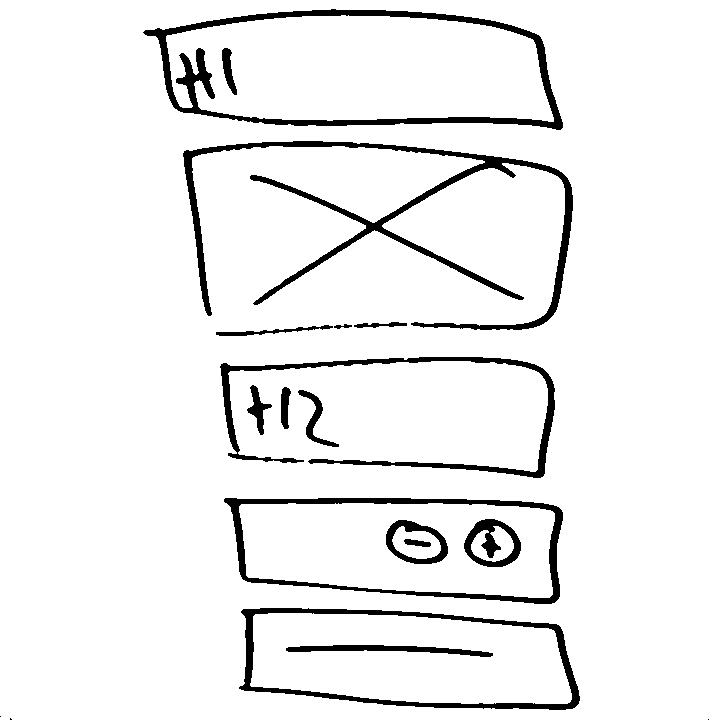button: (239, 600, 594, 716)
heading1: (134, 6, 575, 139)
heading2: (212, 352, 565, 485)
inline stepper bar: (225, 492, 576, 608)
picture: (178, 140, 582, 337)
